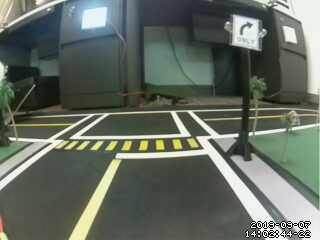Right_only_sign: (234, 15, 263, 53)
